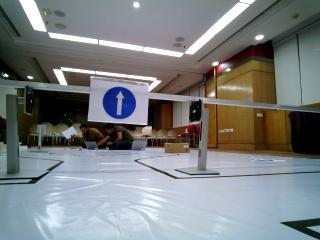straight: (85, 75, 157, 126)
